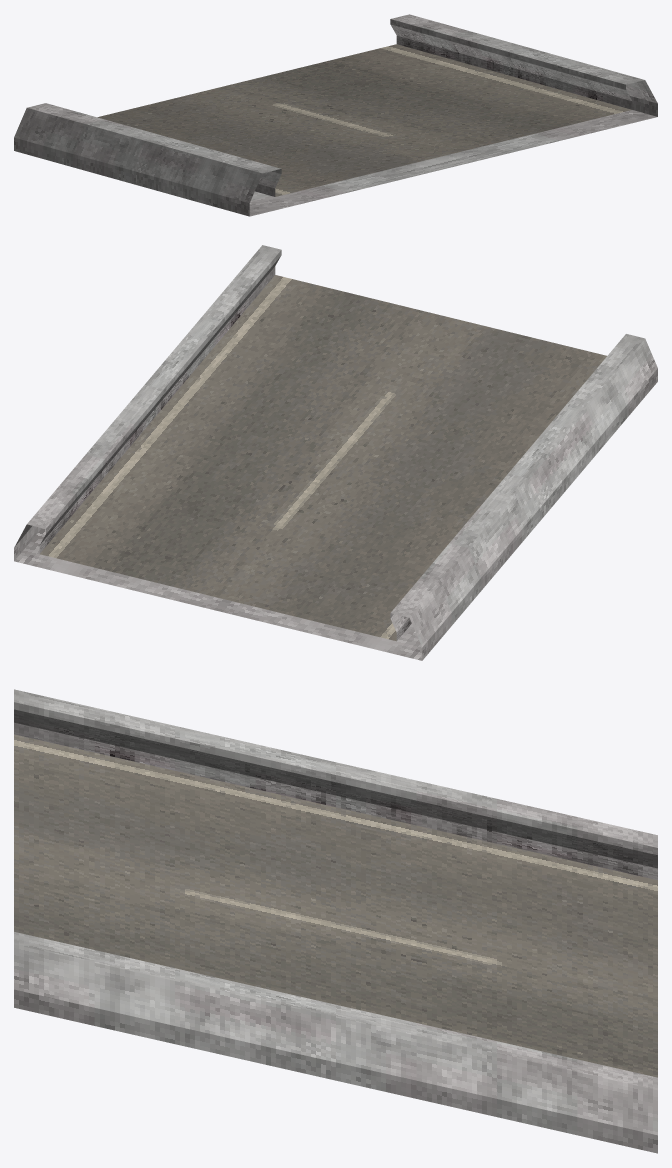
The model's file is road-Straight-BiSlopeDown-BiSlopeDown-Down1-Center-Size1.glb.
The picture shows the model from 3 angles, top to bottom: view 1: azimuth 30°, elevation 25°; view 2: azimuth 150°, elevation 25°; view 3: azimuth 270°, elevation 25°; orthographic projection. The views are drawn at different scales.
Parts seen in each view (by area): view 1: road-Straight-BiSlopeDown-BiSlopeDown-Down1-Center-Size1; view 2: road-Straight-BiSlopeDown-BiSlopeDown-Down1-Center-Size1; view 3: road-Straight-BiSlopeDown-BiSlopeDown-Down1-Center-Size1.
Boxes of the visible parts, <box> form: road-Straight-BiSlopeDown-BiSlopeDown-Down1-Center-Size1: <box>14,14,657,216</box>; road-Straight-BiSlopeDown-BiSlopeDown-Down1-Center-Size1: <box>14,245,657,660</box>; road-Straight-BiSlopeDown-BiSlopeDown-Down1-Center-Size1: <box>14,689,657,1153</box>.
Size of the model in its own units: 1 by 0.3438 by 1.
Materials: 2 (2 with a texture image).
